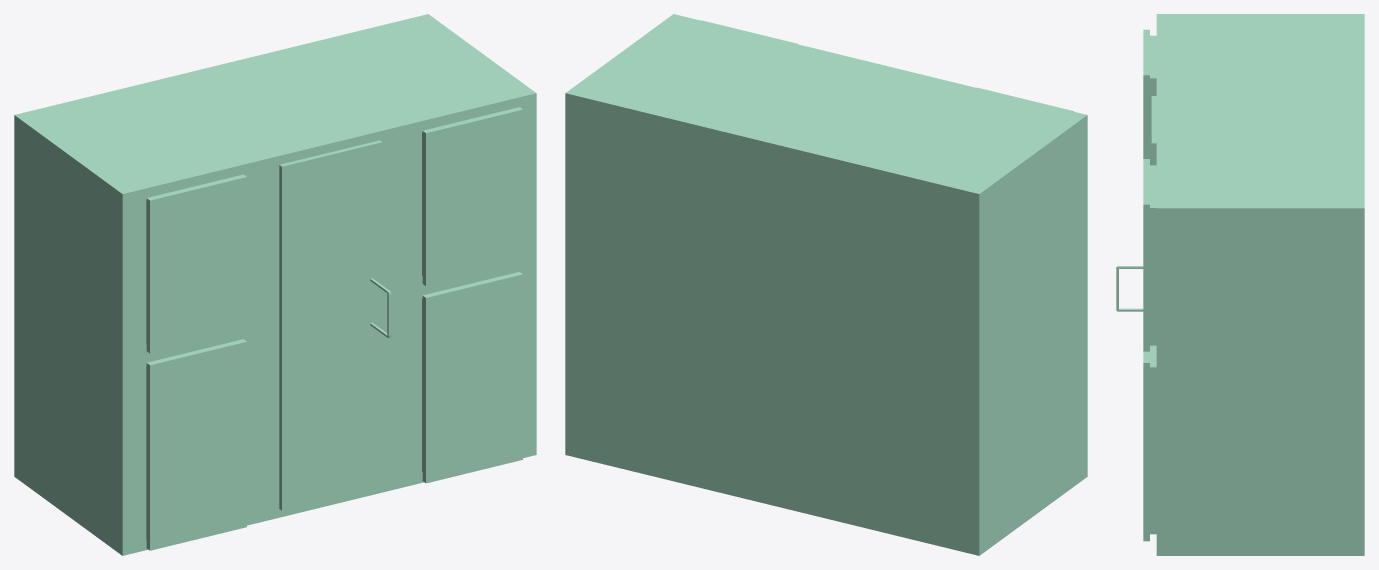
The model's file is LemariTV.fbx.
3 views of the same model, side by side, from view 1: azimuth 30°, elevation 25°; view 2: azimuth 150°, elevation 25°; view 3: azimuth 270°, elevation 25° (orthographic). The views are drawn at different scales.
Visible parts, largest first — view 1: LemariTV; view 2: LemariTV; view 3: LemariTV.
Part boxes in pixels (x1,y1,x2,y2): LemariTV: [14, 14, 536, 555]; LemariTV: [565, 14, 1087, 555]; LemariTV: [1116, 14, 1364, 555].
Size of the model in its own units: 1359 by 1135 by 735.
